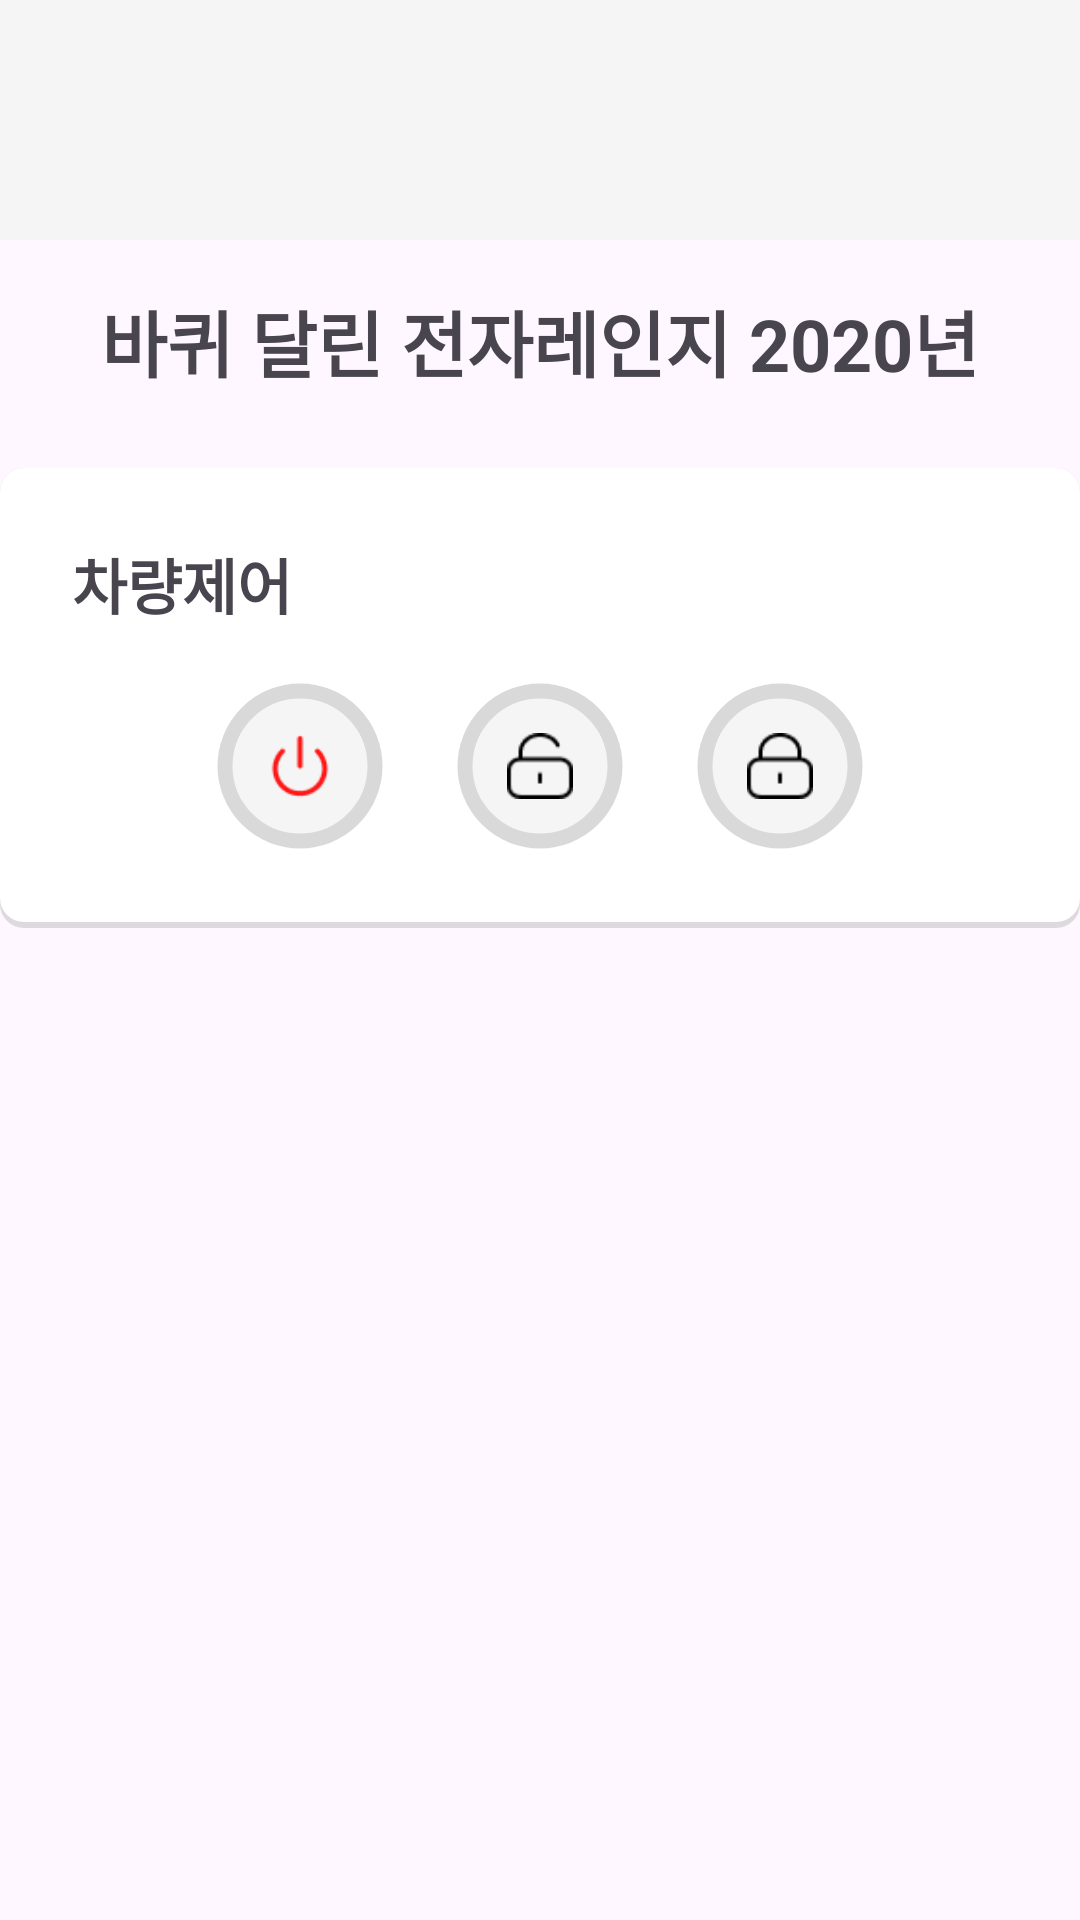

Named icons in this screenshot (1080 x 1920) and their centers, [x,y]:
lock: [780,766]
power: [300,766]
unlock: [540,766]
